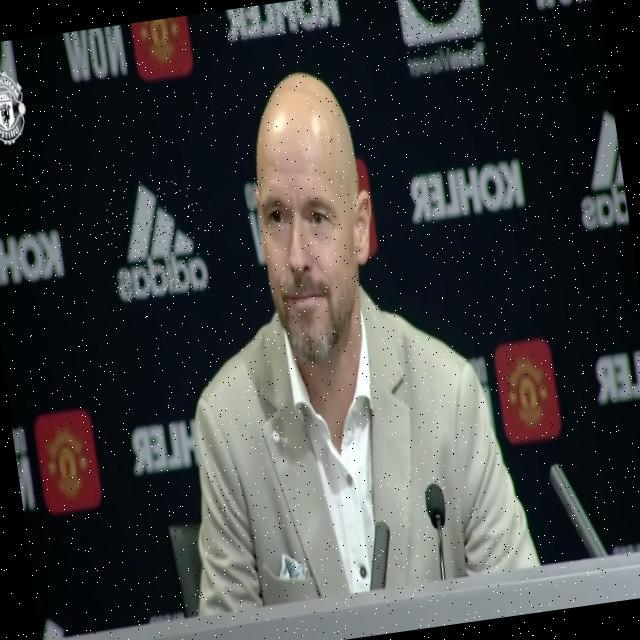Adidas: (100, 168, 214, 304)
Kohler: (409, 159, 526, 225), (223, 0, 340, 43)
TeamViewer: (396, 0, 487, 75)
